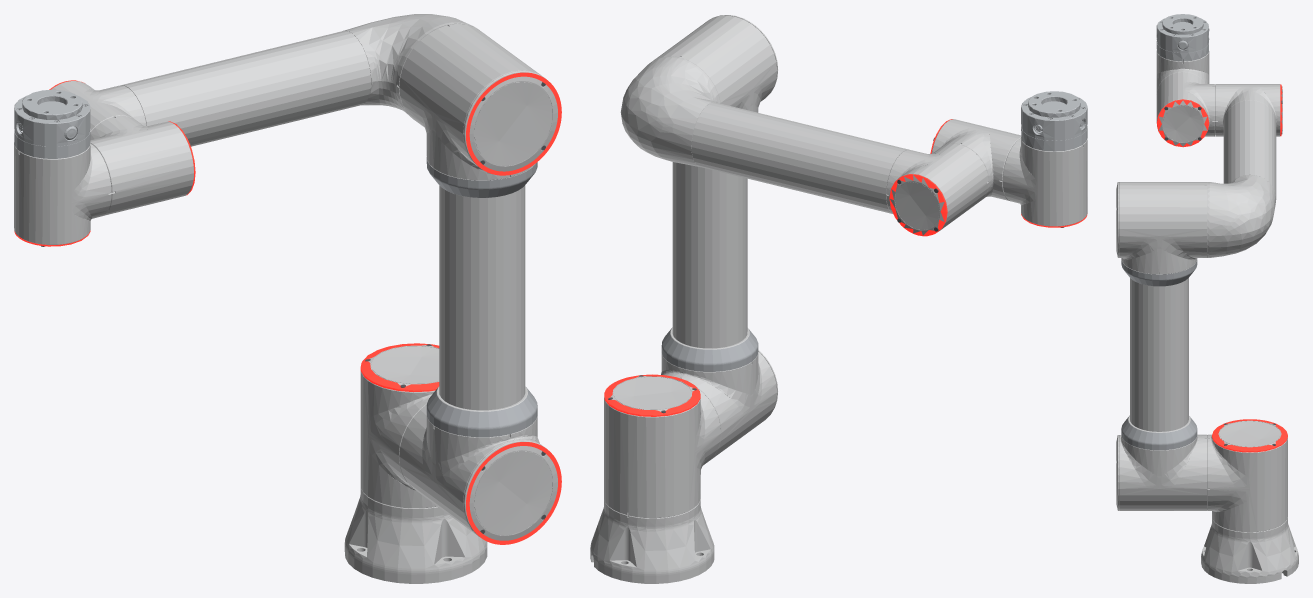
3 renders of one model, left to right at view 1: azimuth 30°, elevation 25°; view 2: azimuth 150°, elevation 25°; view 3: azimuth 270°, elevation 25°, orthographic. The views are drawn at different scales.
Visible parts, largest first — view 1: Link_2_UpperArm_fr5_white_gloss, Link_3_Forearm_fr5_white_gloss, Link_0_Base_fr5_white_gloss, Link_1_Shoulder_fr5_white_gloss, Link_5_Wrist2_fr5_white_gloss, Link_4_Wrist1_fr5_white_gloss, Link_2_UpperArm_fr5_grey_band, Link_6_Flange_fr5_flange_alu, Link_2_UpperArm_fr5_led_ring, Link_1_Shoulder_fr5_led_ring; view 2: Link_3_Forearm_fr5_white_gloss, Link_2_UpperArm_fr5_white_gloss, Link_1_Shoulder_fr5_white_gloss, Link_0_Base_fr5_white_gloss, Link_5_Wrist2_fr5_white_gloss, Link_6_Flange_fr5_flange_alu, Link_4_Wrist1_fr5_white_gloss, Link_2_UpperArm_fr5_grey_band, Link_1_Shoulder_fr5_led_ring, Link_3_Forearm_fr5_led_ring; view 3: Link_2_UpperArm_fr5_white_gloss, Link_3_Forearm_fr5_white_gloss, Link_1_Shoulder_fr5_white_gloss, Link_0_Base_fr5_white_gloss, Link_4_Wrist1_fr5_white_gloss, Link_2_UpperArm_fr5_grey_band, Link_6_Flange_fr5_flange_alu, Link_5_Wrist2_fr5_white_gloss, Link_1_Shoulder_fr5_led_ring, Link_4_Wrist1_fr5_led_ring.
Boxes of the visible parts, <box> form: Link_2_UpperArm_fr5_white_gloss: <box>399,23,557,540</box>; Link_3_Forearm_fr5_white_gloss: <box>51,14,479,146</box>; Link_0_Base_fr5_white_gloss: <box>344,486,487,583</box>; Link_1_Shoulder_fr5_white_gloss: <box>360,345,439,508</box>; Link_5_Wrist2_fr5_white_gloss: <box>14,142,111,244</box>; Link_4_Wrist1_fr5_white_gloss: <box>90,115,193,215</box>; Link_2_UpperArm_fr5_grey_band: <box>426,157,537,437</box>; Link_6_Flange_fr5_flange_alu: <box>14,89,90,158</box>; Link_2_UpperArm_fr5_led_ring: <box>466,72,561,544</box>; Link_1_Shoulder_fr5_led_ring: <box>360,343,439,392</box>; Link_3_Forearm_fr5_white_gloss: <box>620,56,988,235</box>; Link_2_UpperArm_fr5_white_gloss: <box>652,15,777,460</box>; Link_1_Shoulder_fr5_white_gloss: <box>604,376,721,518</box>; Link_0_Base_fr5_white_gloss: <box>590,499,714,583</box>; Link_5_Wrist2_fr5_white_gloss: <box>1002,137,1087,226</box>; Link_6_Flange_fr5_flange_alu: <box>1021,91,1087,151</box>; Link_4_Wrist1_fr5_white_gloss: <box>931,119,1021,200</box>; Link_2_UpperArm_fr5_grey_band: <box>661,328,758,371</box>; Link_1_Shoulder_fr5_led_ring: <box>604,374,700,416</box>; Link_3_Forearm_fr5_led_ring: <box>889,174,947,236</box>; Link_2_UpperArm_fr5_white_gloss: <box>1116,182,1207,510</box>; Link_3_Forearm_fr5_white_gloss: <box>1207,84,1282,257</box>; Link_1_Shoulder_fr5_white_gloss: <box>1207,420,1287,532</box>; Link_0_Base_fr5_white_gloss: <box>1201,517,1298,583</box>; Link_4_Wrist1_fr5_white_gloss: <box>1156,72,1214,146</box>; Link_2_UpperArm_fr5_grey_band: <box>1121,259,1197,450</box>; Link_6_Flange_fr5_flange_alu: <box>1156,14,1209,61</box>; Link_5_Wrist2_fr5_white_gloss: <box>1156,50,1209,94</box>; Link_1_Shoulder_fr5_led_ring: <box>1212,419,1287,452</box>; Link_4_Wrist1_fr5_led_ring: <box>1156,99,1209,147</box>.
Size of the model in its own units: 0.6114 by 0.6769 by 0.2785.
